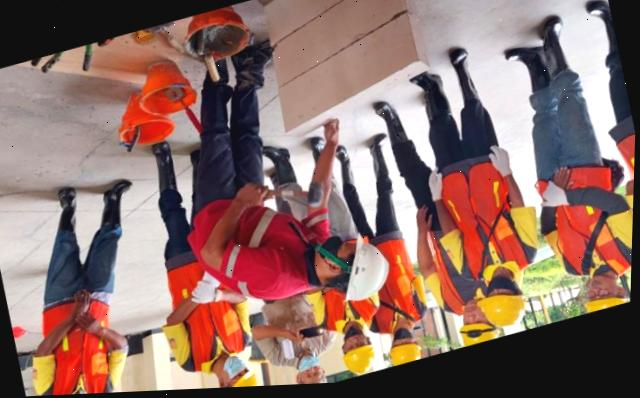helmet: (331, 228, 393, 306), (477, 285, 535, 339), (456, 315, 502, 351), (342, 345, 379, 382), (217, 368, 266, 390), (583, 300, 631, 319), (391, 346, 422, 367)
vest: (207, 196, 344, 314), (451, 159, 534, 291), (542, 162, 632, 280), (173, 261, 253, 378), (36, 300, 129, 396), (361, 239, 424, 341), (430, 223, 467, 321), (318, 288, 379, 339), (621, 133, 636, 200)
